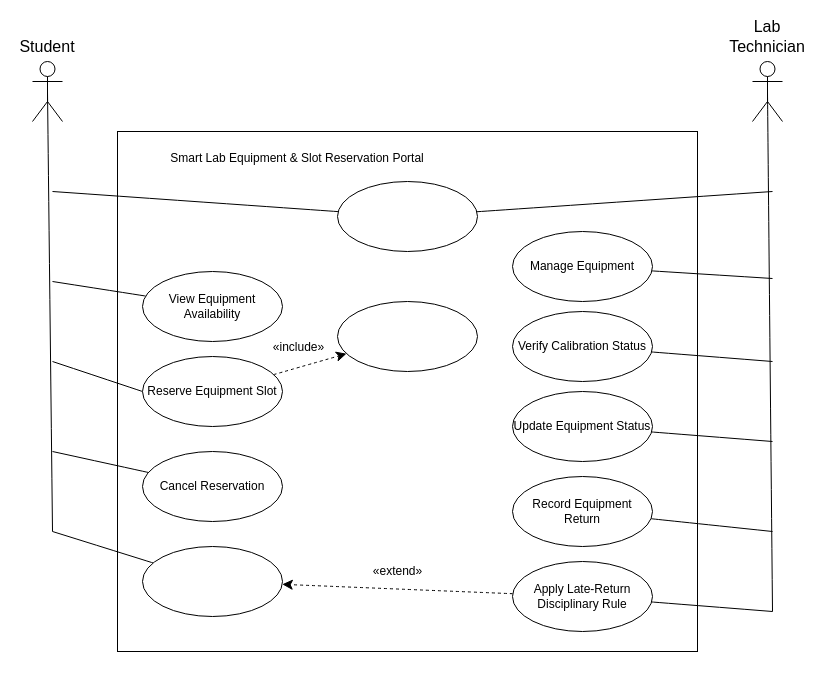
Image size: 822x679. Some labels were removed from this diagram. The centre of each missing label's shape, as x and y in pixels:
Check Equipment Availability: the point at 407,336
Login: the point at 407,216
Return Equipment: the point at 212,581
